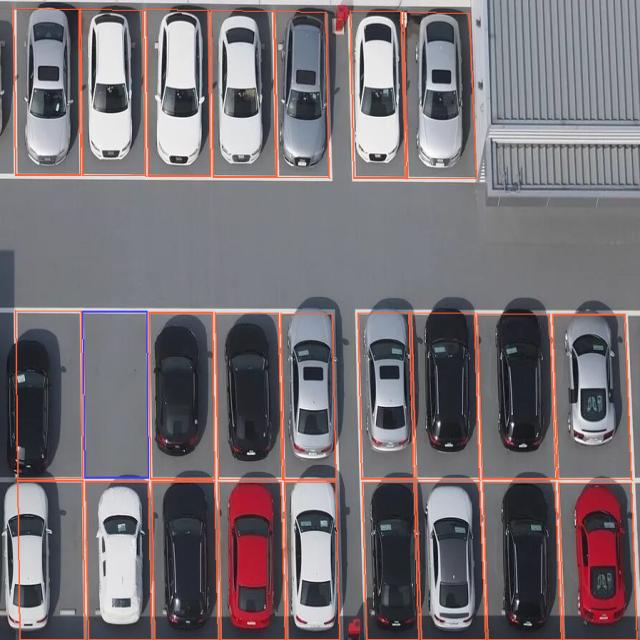space-empty: (81, 308, 149, 480)
space-occupied: (480, 477, 562, 636), (558, 479, 636, 636), (556, 310, 628, 478), (482, 307, 552, 476), (14, 307, 81, 478), (405, 8, 473, 175), (83, 474, 152, 636), (216, 308, 281, 478), (150, 474, 218, 636), (145, 9, 211, 175), (5, 475, 72, 636), (80, 9, 145, 174), (419, 478, 486, 638), (210, 9, 274, 176), (216, 478, 283, 637), (417, 305, 478, 479), (151, 308, 214, 476), (16, 6, 78, 174), (347, 10, 406, 179), (358, 307, 415, 476), (274, 7, 330, 178), (362, 477, 421, 638), (282, 477, 340, 638), (282, 308, 338, 474), (0, 7, 18, 174)
